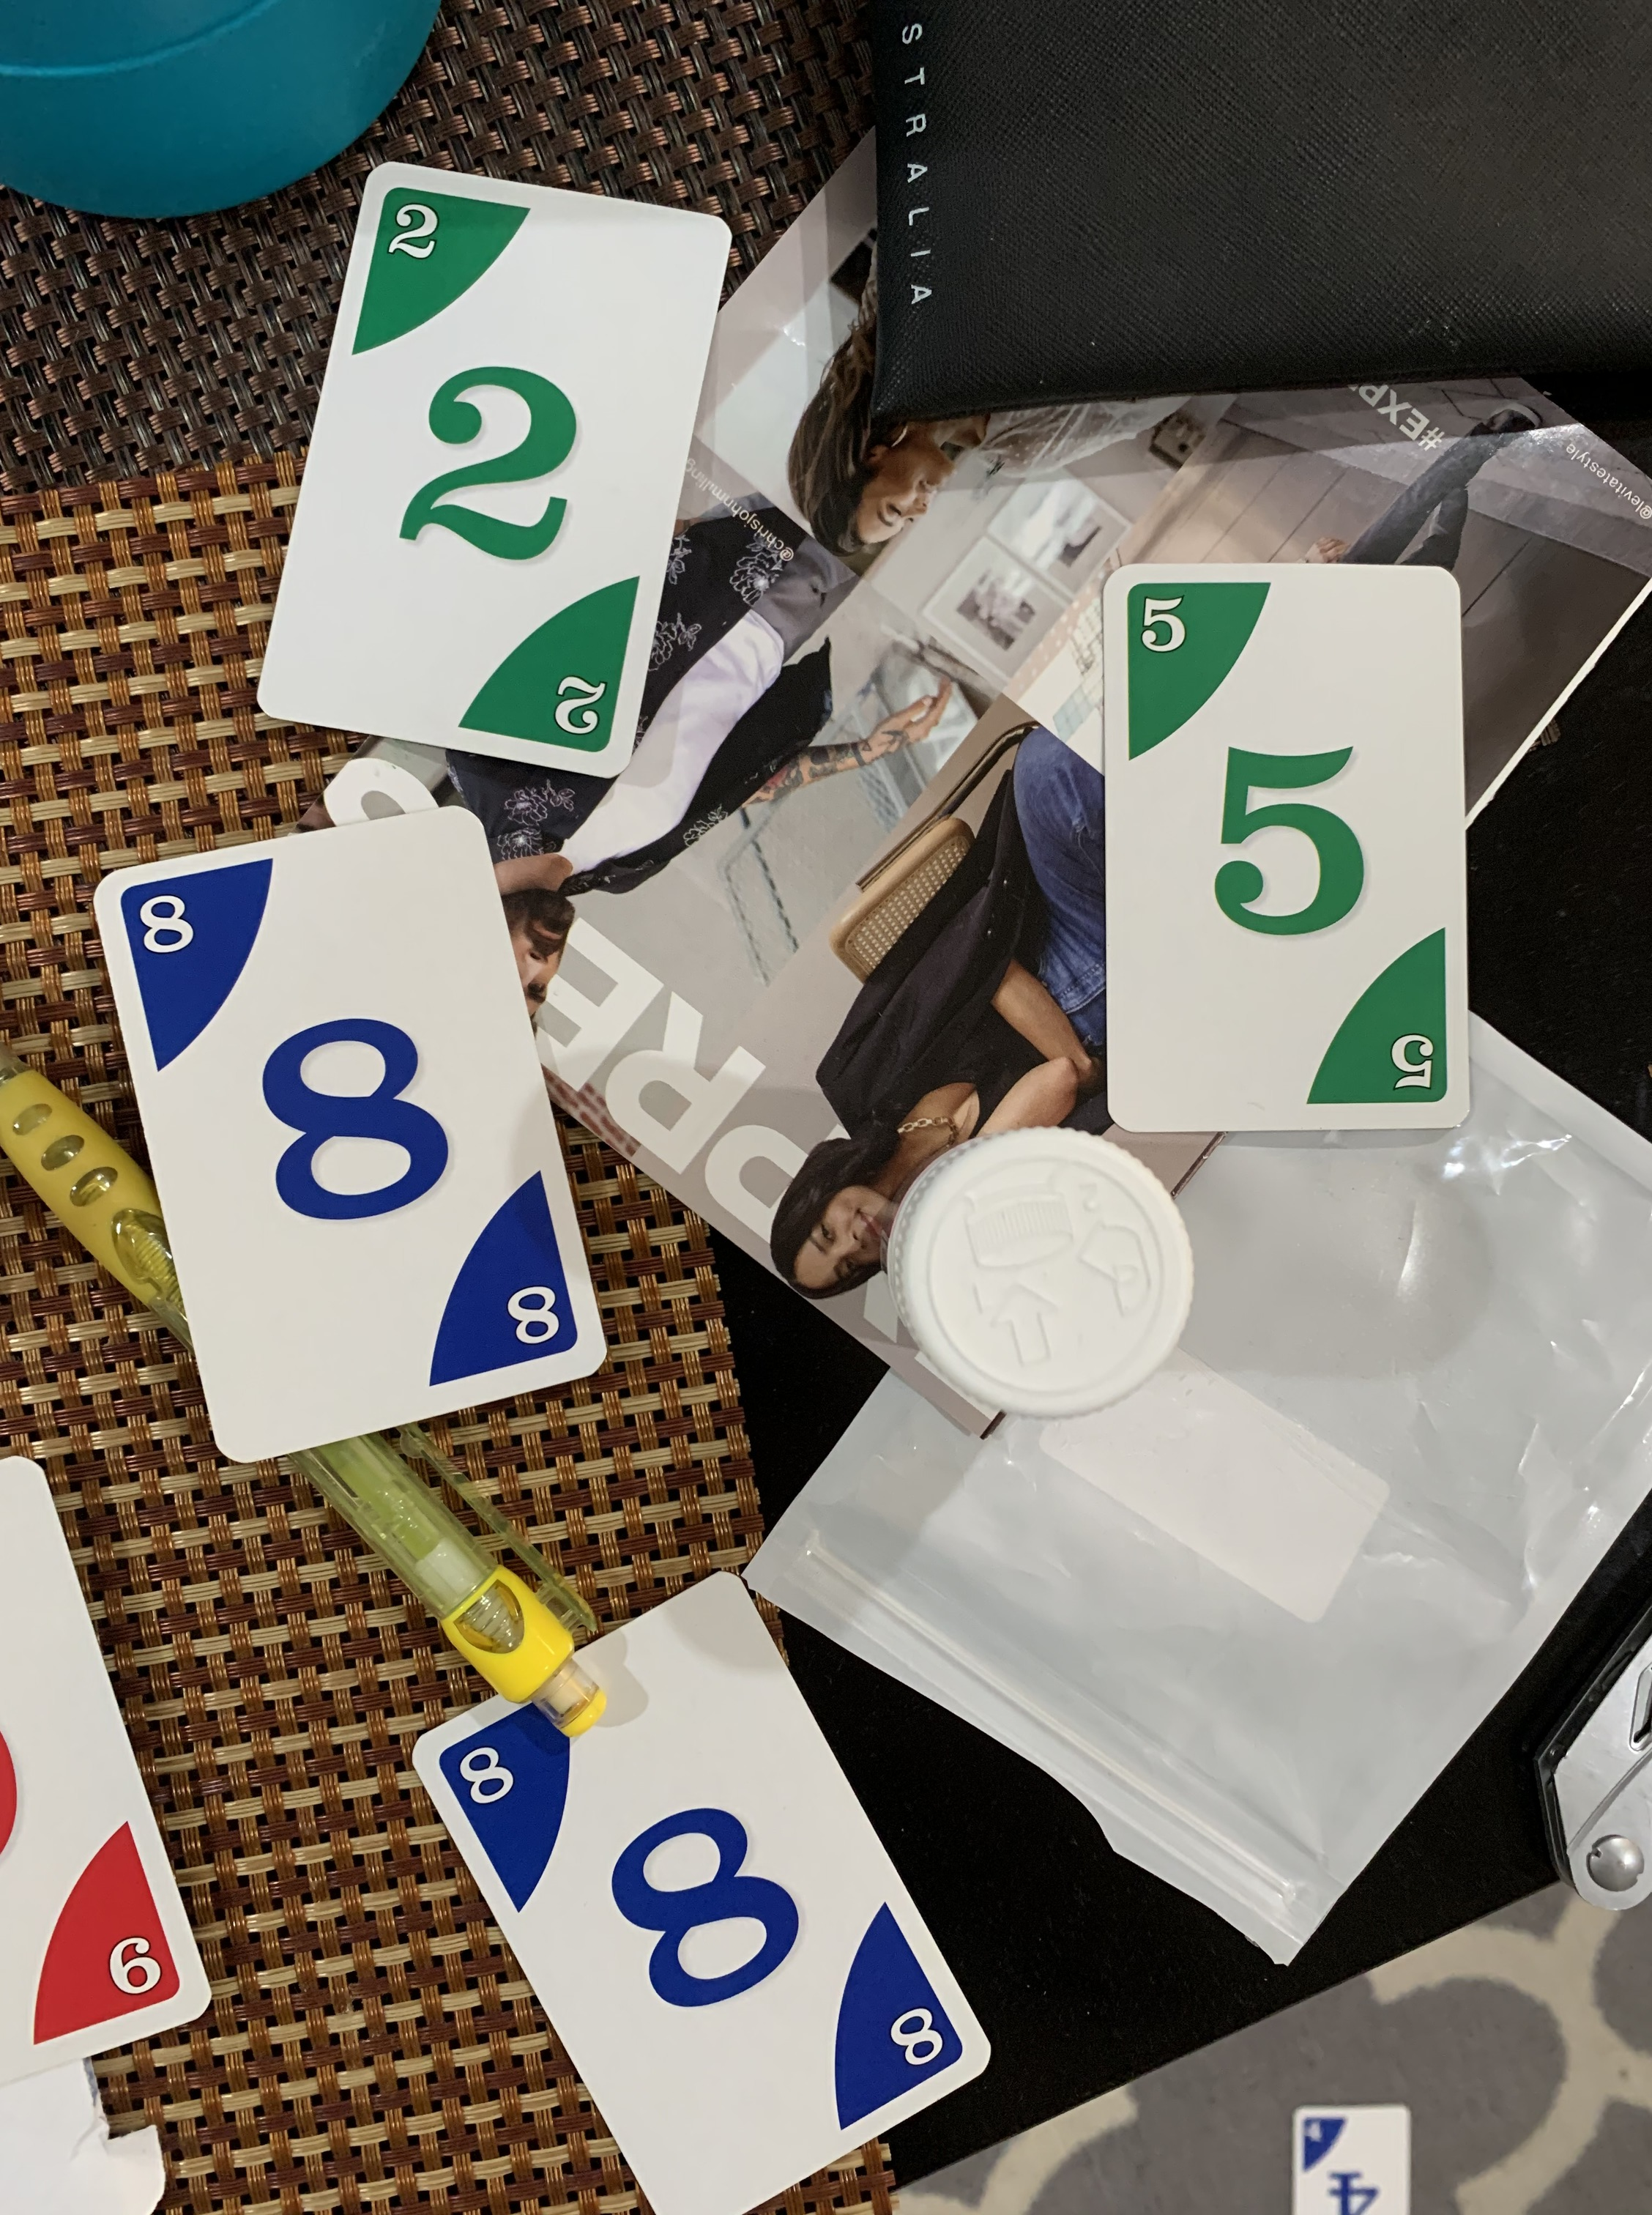eight: (401, 1555, 998, 2215), (62, 793, 619, 1488)
five: (1071, 542, 1485, 1147)
two: (245, 148, 739, 797)
